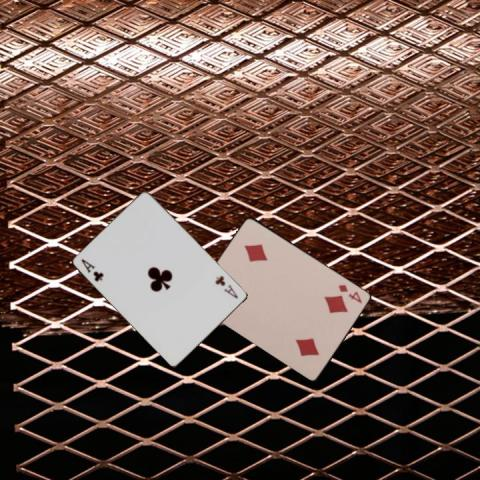4d: (336, 281, 364, 305)
Ac: (213, 273, 240, 300), (79, 256, 105, 283)
